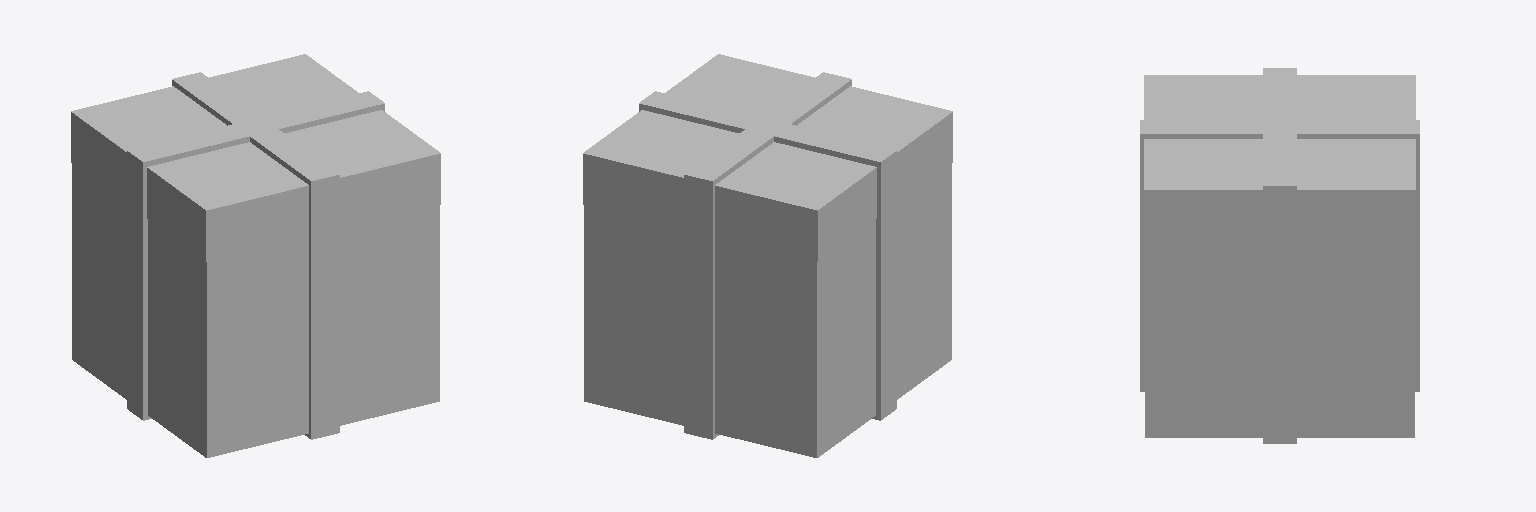
The model's file is xmasBox.obj.
The picture shows the model from 3 angles: view 1: azimuth 30°, elevation 25°; view 2: azimuth 150°, elevation 25°; view 3: azimuth 270°, elevation 25°; orthographic projection.
Visible parts, largest first — view 1: 立方体; view 2: 立方体; view 3: 立方体.
Part boxes in pixels (left/top/right/bottom): 立方体: left=71, top=54, right=440, bottom=457; 立方体: left=583, top=54, right=952, bottom=457; 立方体: left=1140, top=68, right=1419, bottom=443.
Bounding box in the file's own units: 2.08 × 2.12 × 2.08.